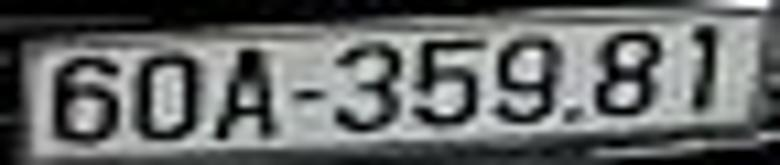-: (291, 85, 327, 109)
.: (559, 104, 588, 127)
0: (131, 44, 202, 143)
1: (685, 24, 721, 113)
3: (329, 41, 405, 134)
5: (417, 36, 484, 132)
6: (49, 54, 122, 145)
8: (594, 31, 661, 117)
9: (494, 33, 558, 130)
A: (213, 49, 285, 148)
